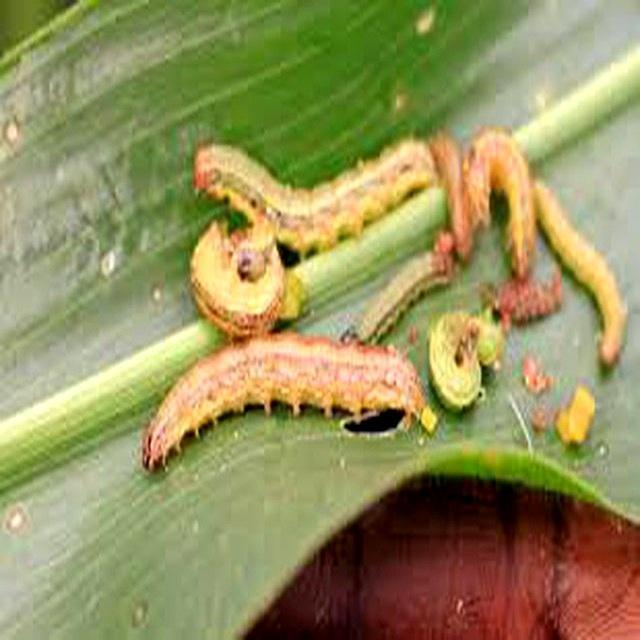pest: (172, 354, 422, 442), (193, 137, 424, 217), (539, 183, 632, 359), (346, 230, 449, 346), (468, 132, 550, 258), (186, 235, 285, 330), (431, 310, 507, 414)
